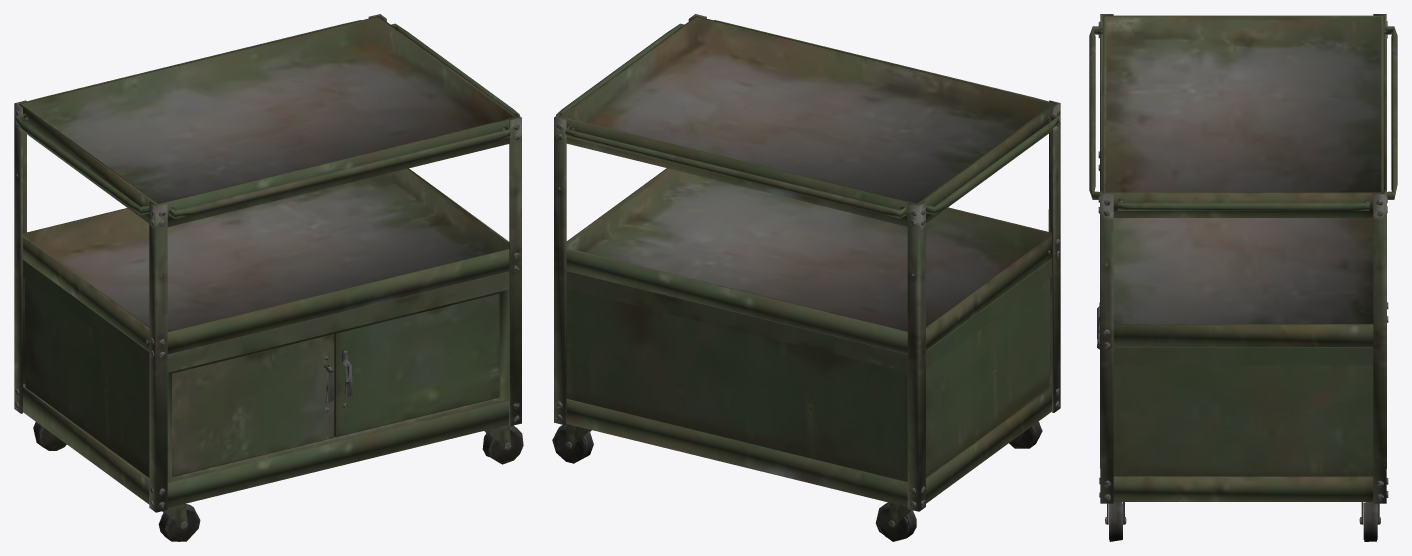
The model's file is industrial_storage_cart.glb.
3 views of the same model, side by side, from view 1: azimuth 30°, elevation 25°; view 2: azimuth 150°, elevation 25°; view 3: azimuth 270°, elevation 25° (orthographic).
Visible parts, largest first — view 1: industrial_storage_cart; view 2: industrial_storage_cart; view 3: industrial_storage_cart.
Part boxes in pixels (x1,y1,x2,y2): industrial_storage_cart: [14, 14, 523, 541]; industrial_storage_cart: [552, 14, 1060, 541]; industrial_storage_cart: [1089, 14, 1397, 541].
Size of the model in its own units: 1.6 by 1.38 by 1.09.
Materials: 1 (1 with a texture image).
